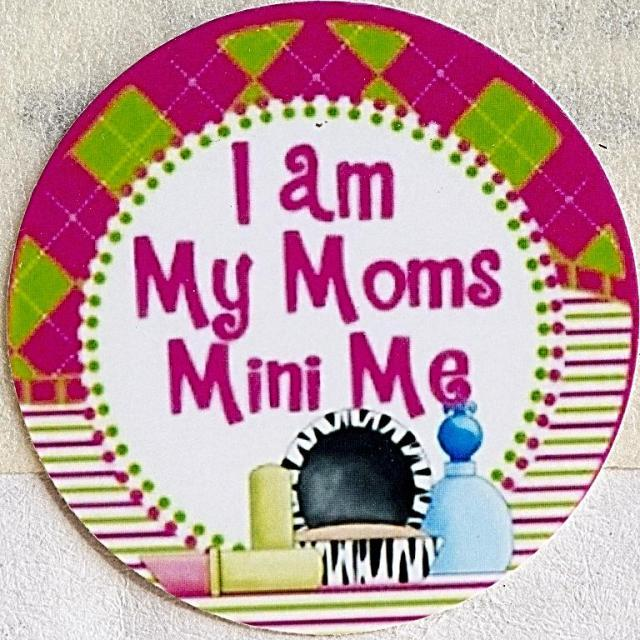ceramic plate: (2, 2, 568, 610)
